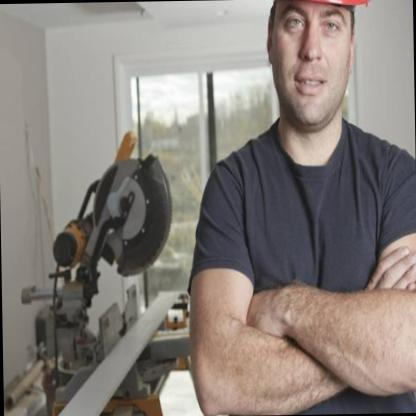helmet: (247, 1, 385, 134)
